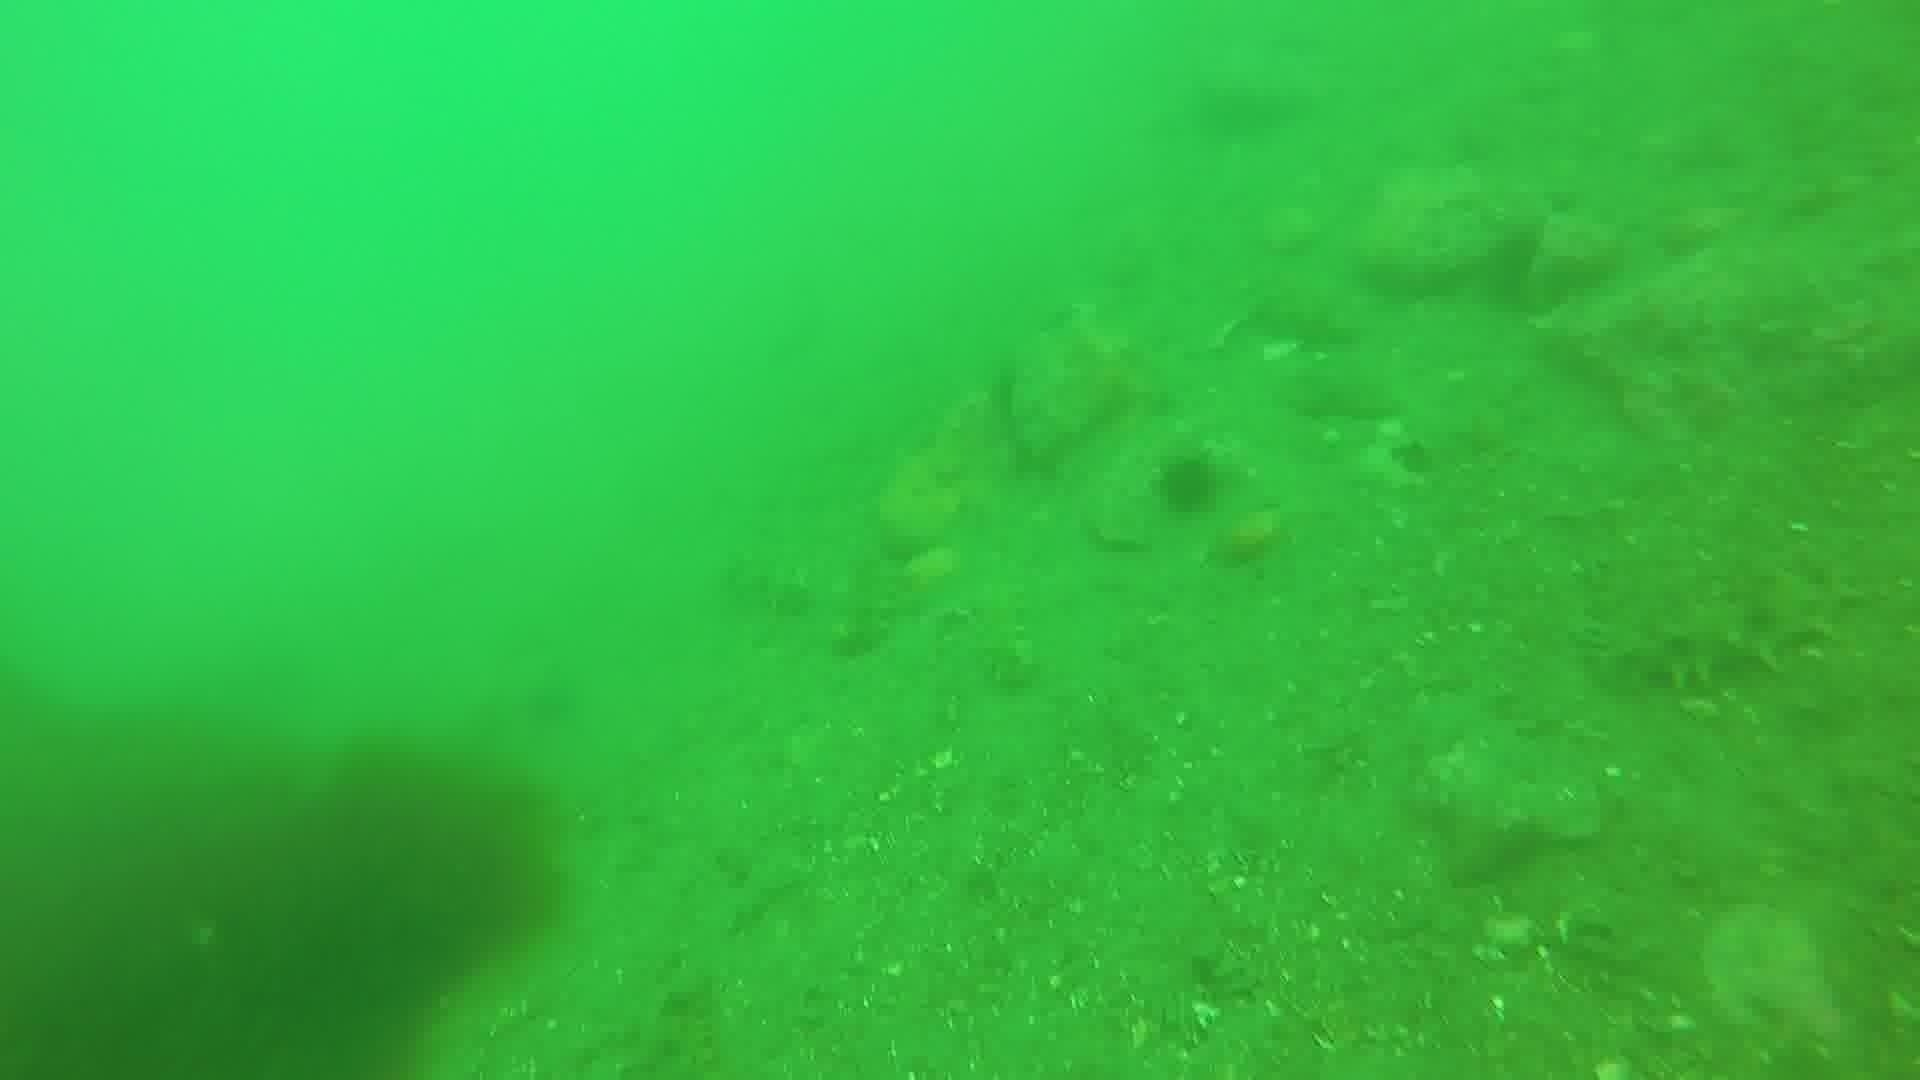echinus: (1149, 447, 1226, 520)
holothurian: (1586, 554, 1861, 699)
